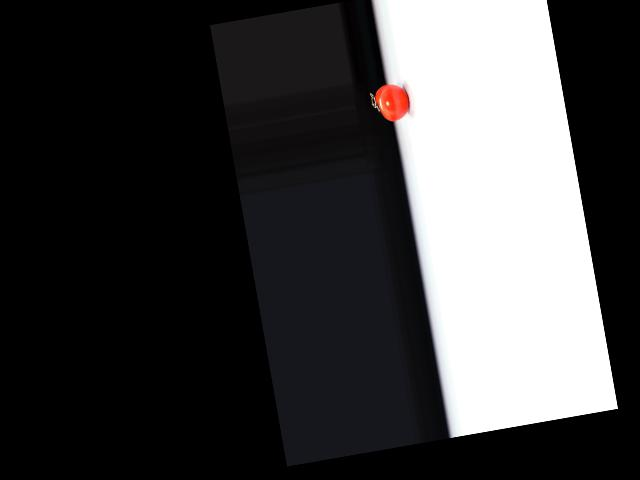tomato: (373, 81, 412, 124)
